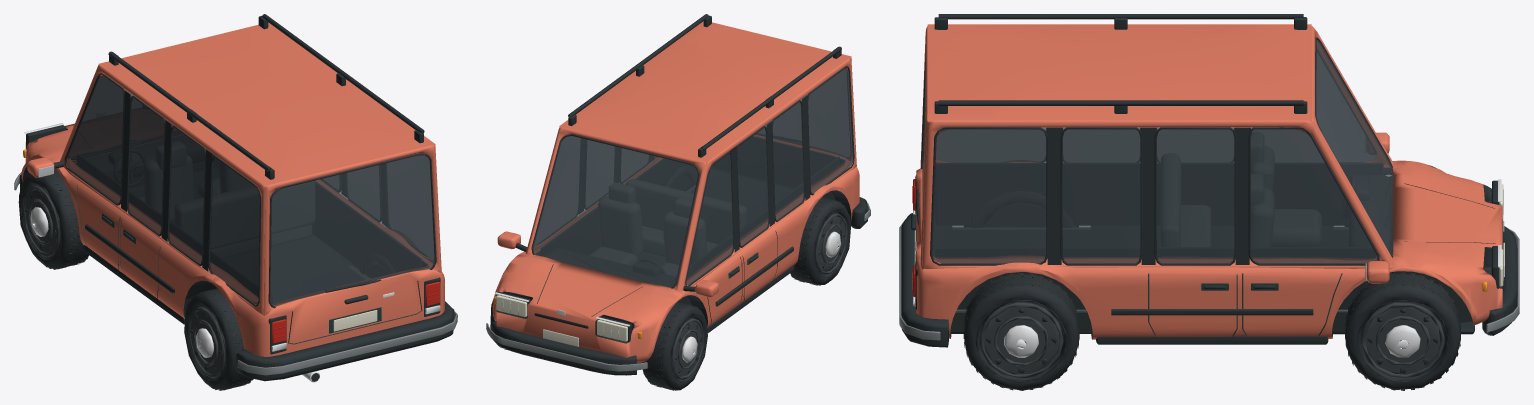
Rendered from minibus_lod2.fbx.
3 views of the same model, side by side, from view 1: azimuth 30°, elevation 25°; view 2: azimuth 150°, elevation 25°; view 3: azimuth 270°, elevation 25° (orthographic). The views are drawn at different scales.
Parts seen in each view (by area): view 1: Body, Wheel_FL_Mesh, Wheel_RL_Mesh, Wheel_RR_Mesh; view 2: Body, Wheel_FL_Mesh, Wheel_RL_Mesh, Wheel_RR_Mesh; view 3: Body, Wheel_RR_Mesh, Wheel_FR_Mesh, Wheel_RL_Mesh.
Part boxes in pixels (x1,y1,x2,y2): Body: [14, 14, 457, 382]; Wheel_FL_Mesh: [18, 168, 89, 269]; Wheel_RL_Mesh: [184, 288, 253, 390]; Wheel_RR_Mesh: [360, 253, 395, 278]; Body: [486, 14, 870, 375]; Wheel_FL_Mesh: [642, 301, 707, 390]; Wheel_RL_Mesh: [790, 197, 851, 285]; Wheel_RR_Mesh: [666, 166, 697, 190]; Body: [899, 14, 1519, 347]; Wheel_RR_Mesh: [963, 272, 1079, 390]; Wheel_FR_Mesh: [1345, 272, 1460, 390]; Wheel_RL_Mesh: [964, 191, 1078, 227].
Size of the model in its own units: 239 by 222 by 449.
